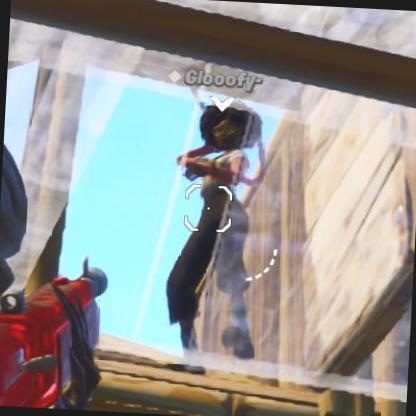person: (177, 87, 260, 340)
